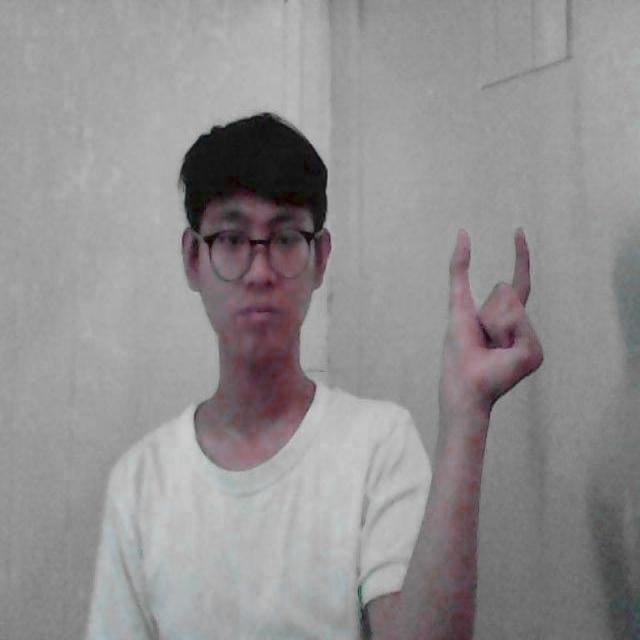U: (434, 209, 544, 366)
